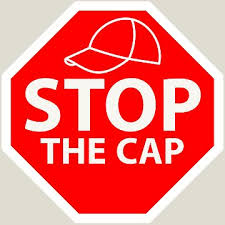stop sign: (4, 2, 224, 224)
